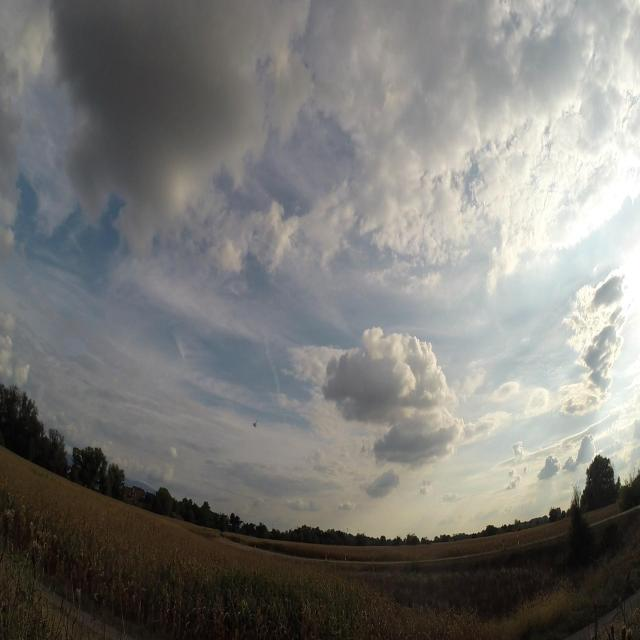drone: (250, 414, 260, 436)
